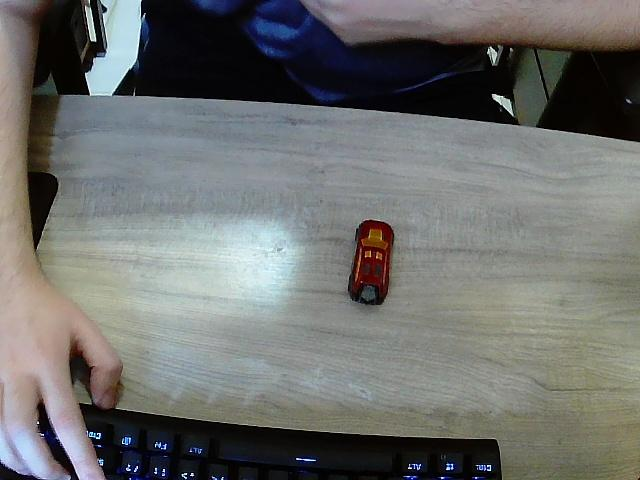Carro: (348, 221, 394, 306)
